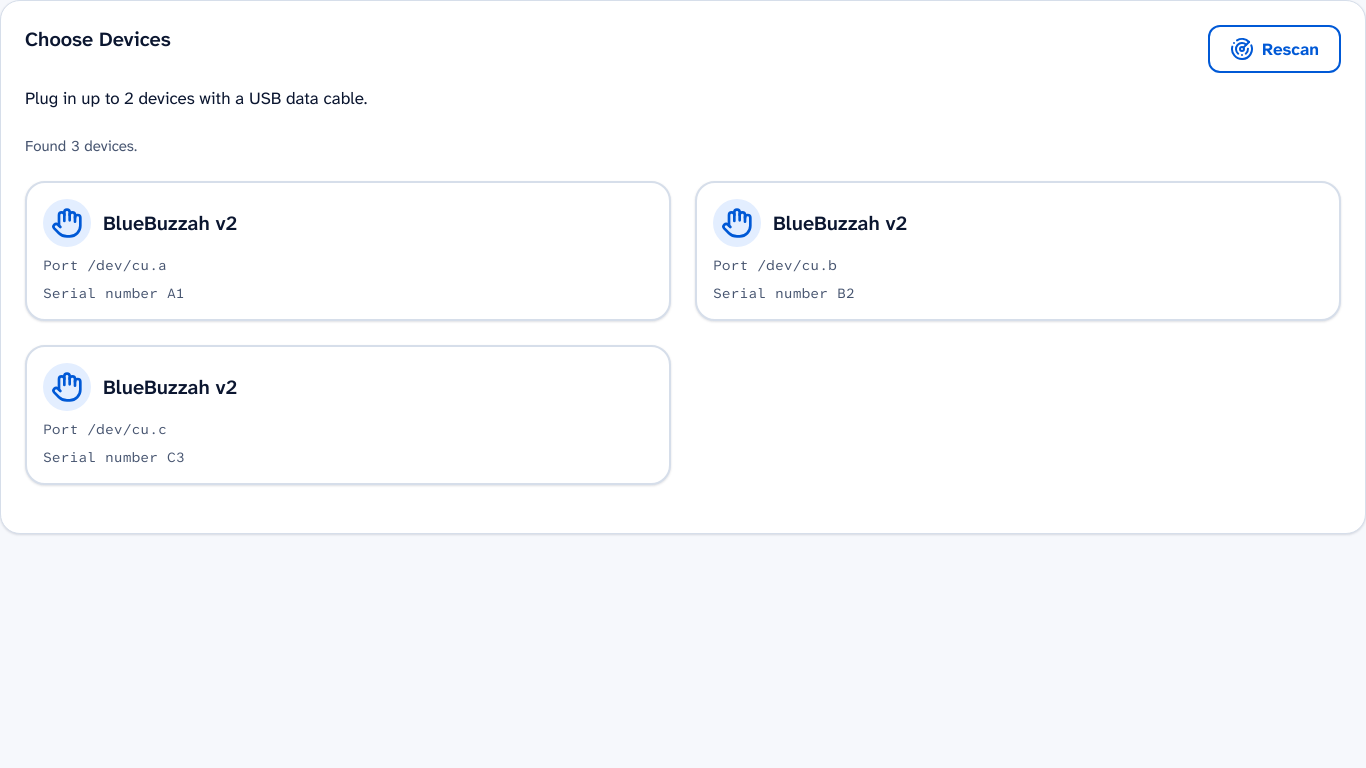
it: DeviceSelection › allows at most 2 devices
Click the button "BlueBuzzah v2 Port /dev/cu.a Serial number A1": coordinates (67, 223) [25, 181, 671, 321]
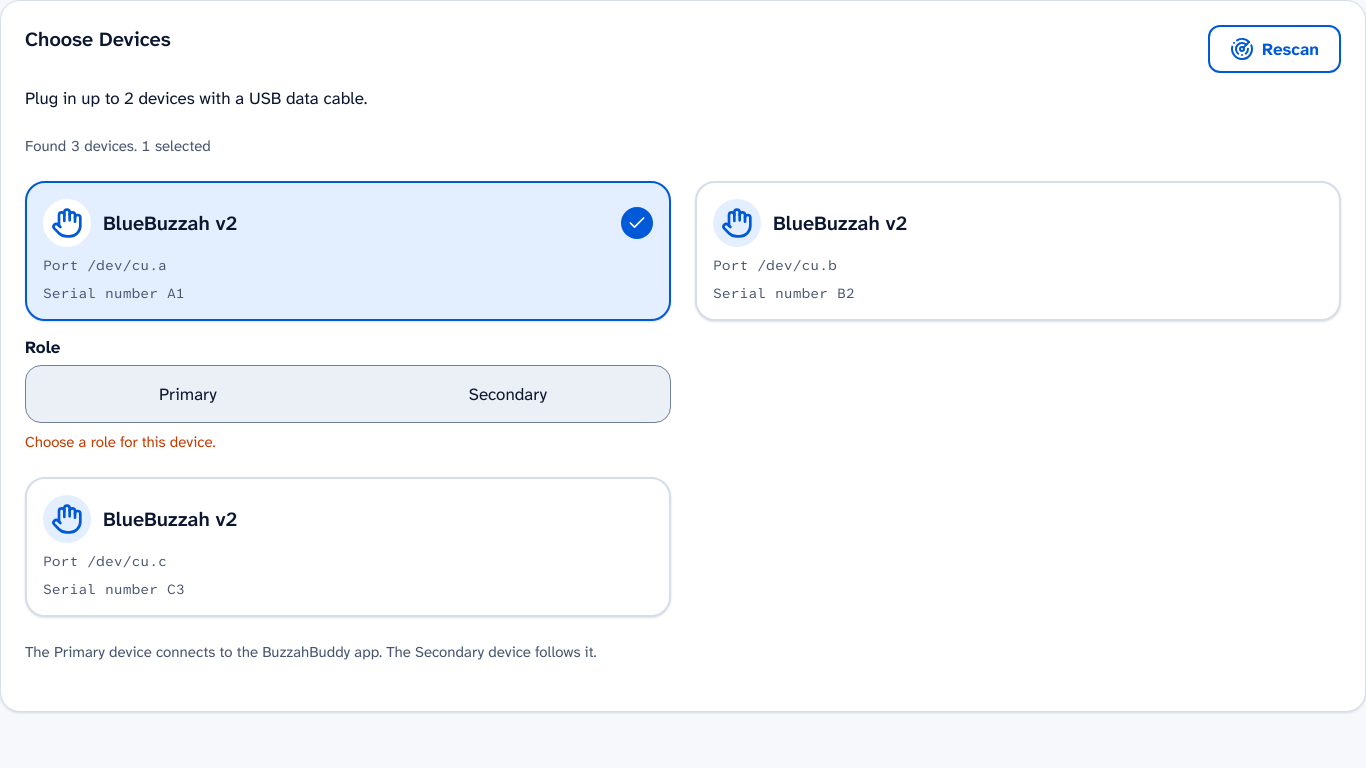
Click the button "BlueBuzzah v2 Port /dev/cu.b Serial number B2": coordinates (737, 223) [695, 181, 1341, 321]
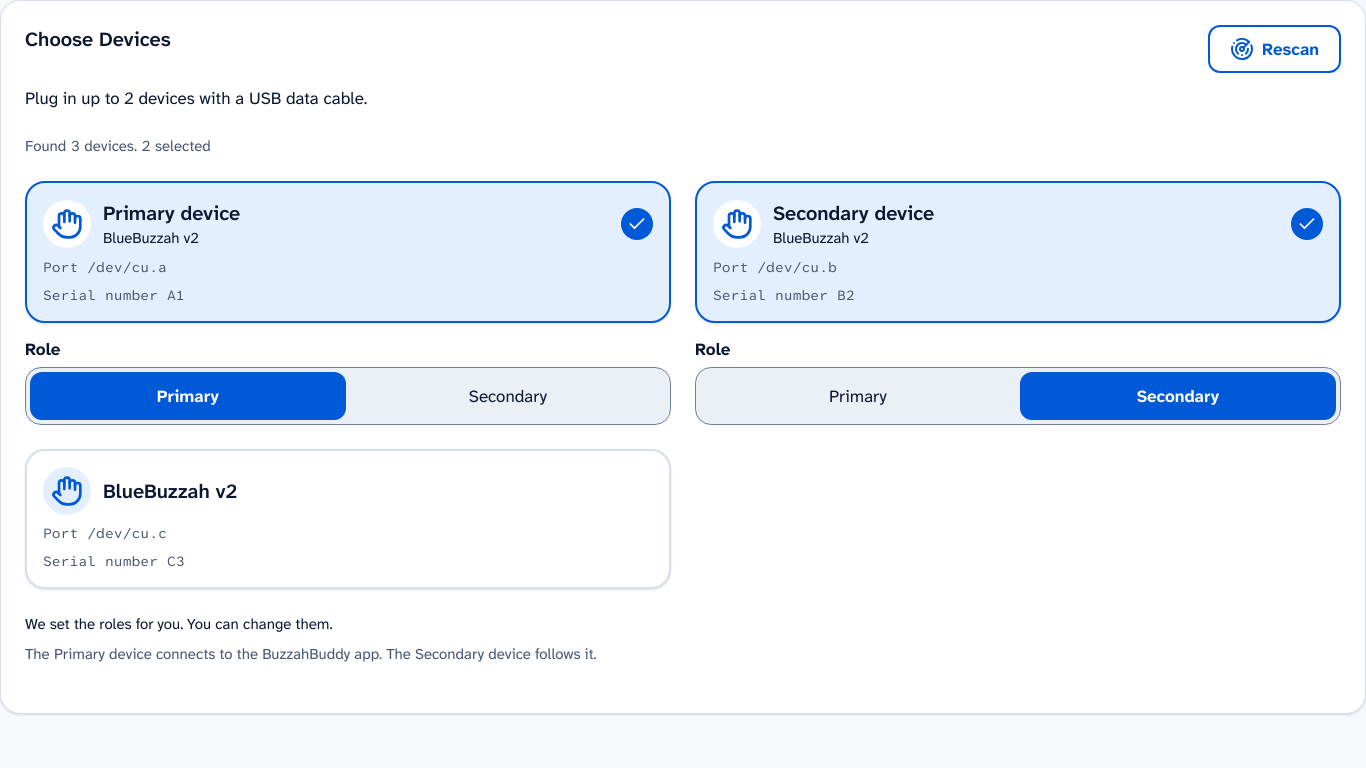
Click the button "BlueBuzzah v2 Port /dev/cu.c Serial number C3": coordinates (67, 491) [25, 449, 671, 589]
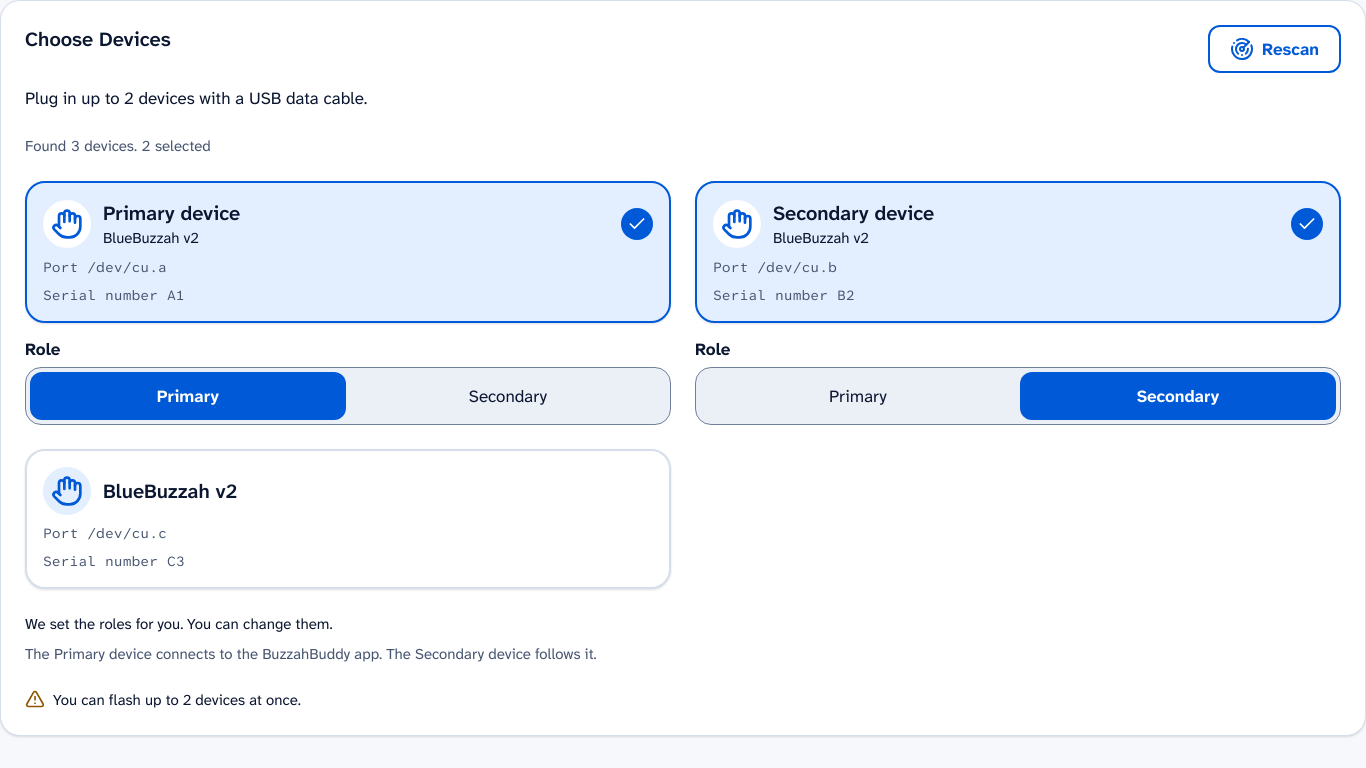
Expected: the text "You can flash up to 2 devices at once." is shown, [25, 689, 301, 710]
